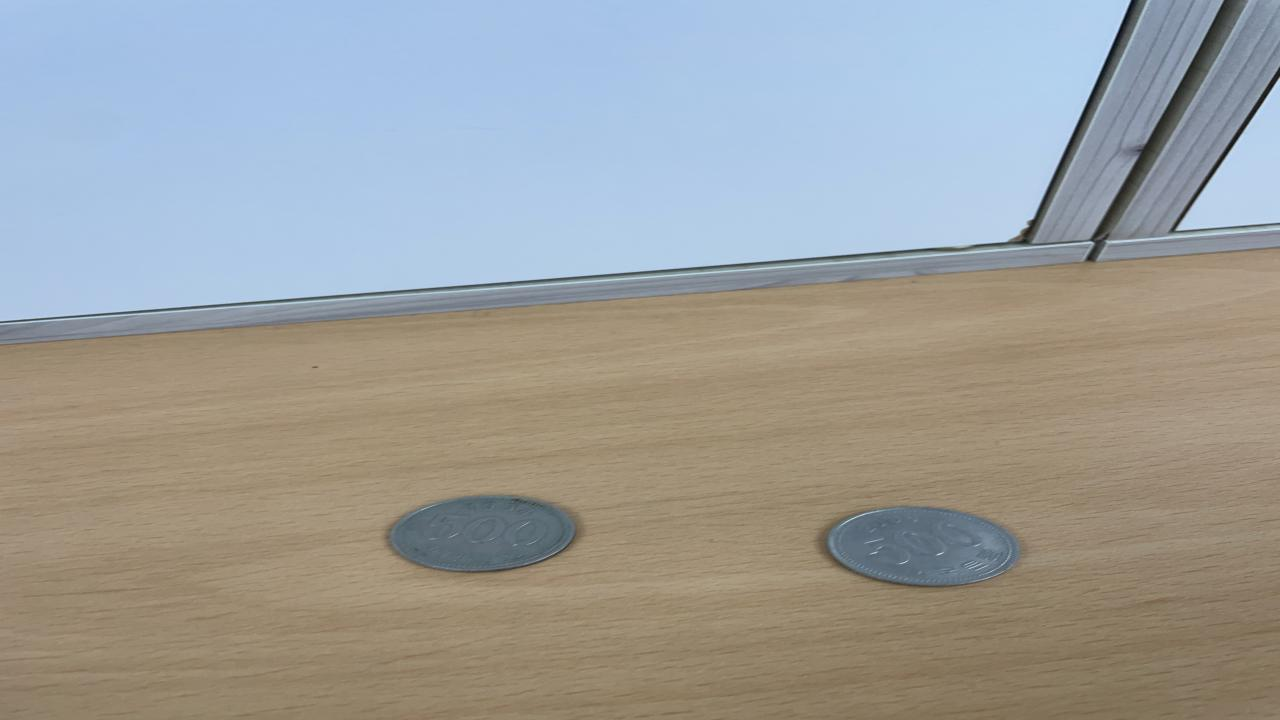coin: (820, 504, 1020, 587), (388, 494, 580, 573)
